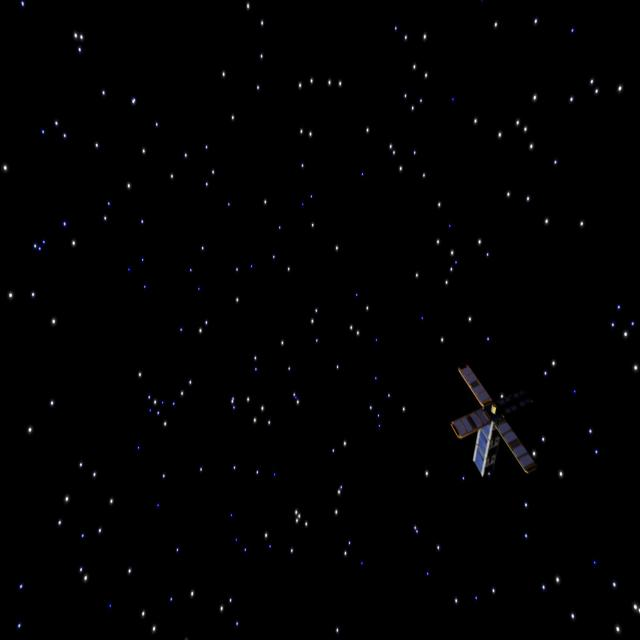medium_debris: (442, 363, 551, 482)
